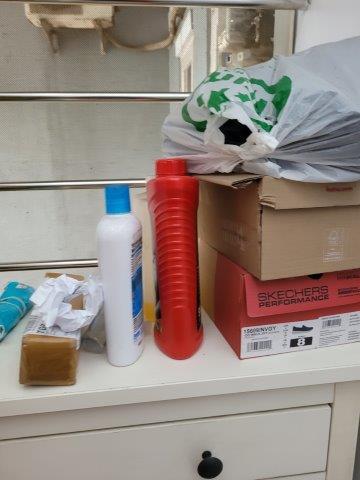kertas: (34, 275, 103, 332)
plastik: (160, 36, 360, 177)
